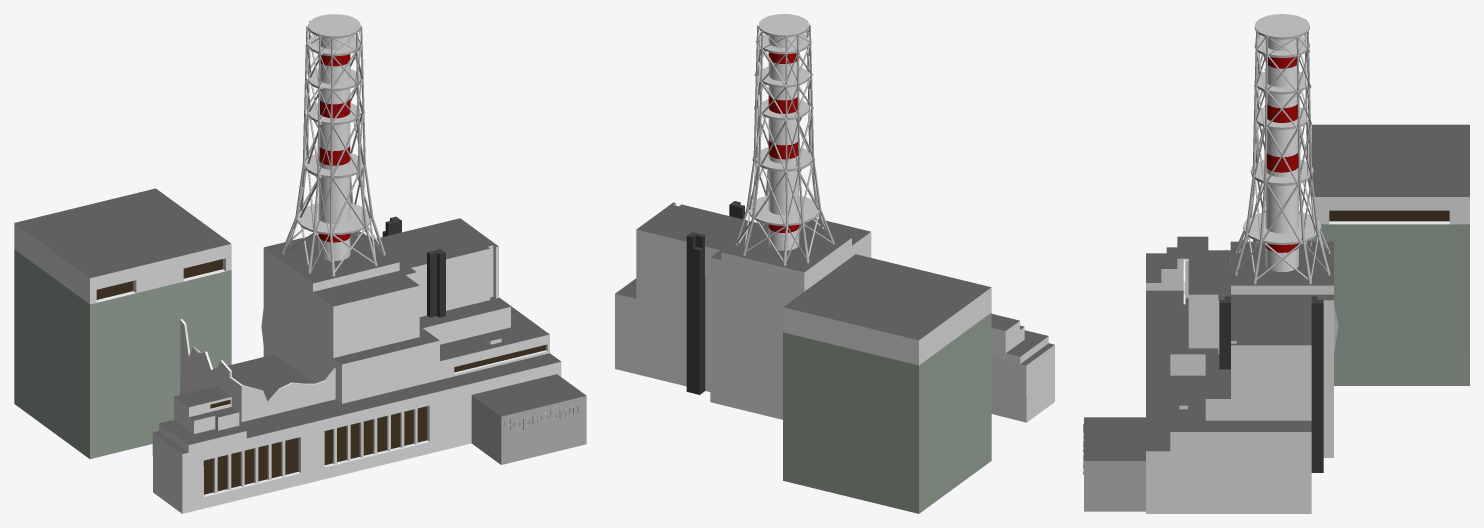
The model's file is Chernobyltest2.fbx.
The picture shows the model from 3 angles, left to right: view 1: azimuth 30°, elevation 25°; view 2: azimuth 150°, elevation 25°; view 3: azimuth 270°, elevation 25°; orthographic projection. The views are drawn at different scales.
Parts seen in each view (by area): view 1: pCube31; view 2: pCube31; view 3: pCube31.
Part boxes in pixels (x1,y1,x2,y2): pCube31: (14,14,586,513); pCube31: (615,14,1054,513); pCube31: (1083,14,1469,513).
Bounding box in the file's own units: 85.78 × 81.08 × 70.07.
